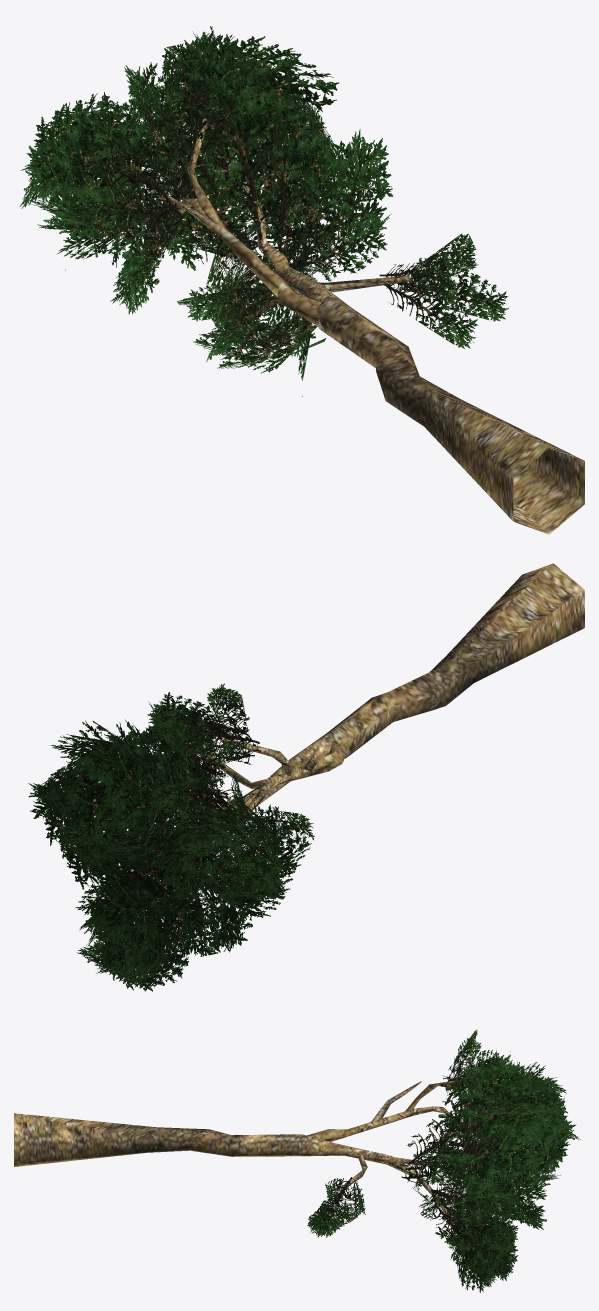
The model's file is aleppo_pine_7.glb.
3 views of the same model, one above another, from view 1: azimuth 30°, elevation 25°; view 2: azimuth 150°, elevation 25°; view 3: azimuth 270°, elevation 25° (orthographic). The views are drawn at different scales.
Size of the model in its own units: 8.08 by 8.24 by 18.6.
Materials: 1 (1 with a texture image).
